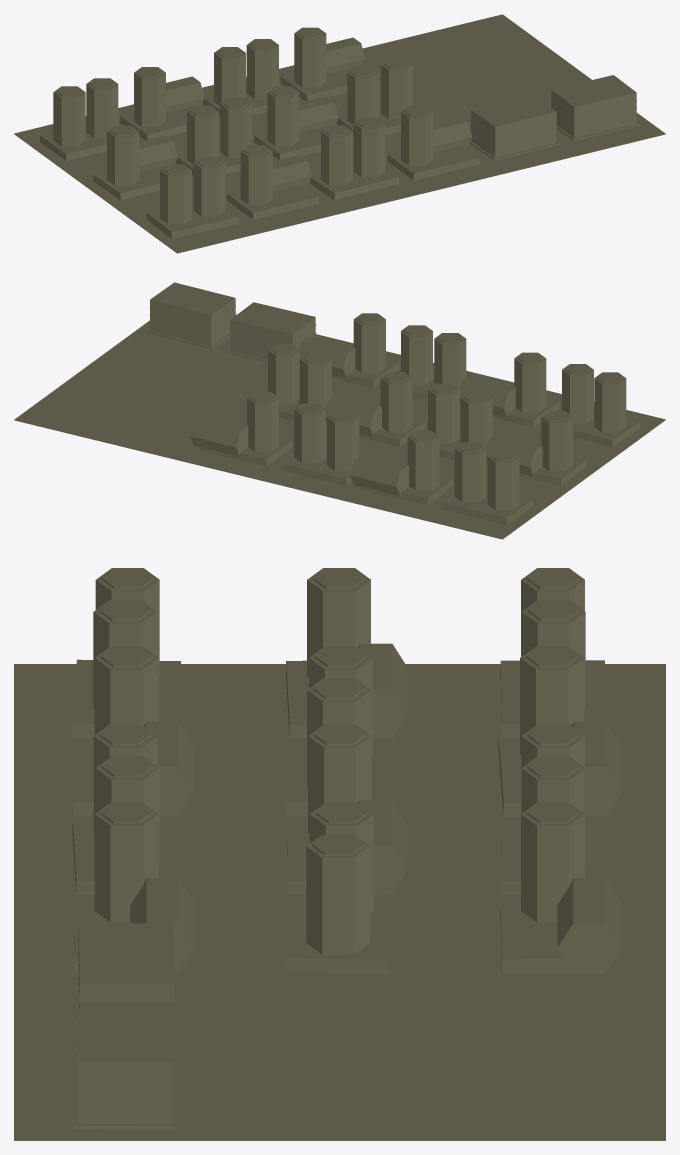
Rendered from SM_AcopioCombustible_v4_Quemado_LOD1.fbx.
3 views of the same model, one above another, from view 1: azimuth 30°, elevation 25°; view 2: azimuth 150°, elevation 25°; view 3: azimuth 270°, elevation 25° (orthographic). The views are drawn at different scales.
Visible parts, largest first — view 1: SM_acopio_carga_v9_LOD1; view 2: SM_acopio_carga_v9_LOD1; view 3: SM_acopio_carga_v9_LOD1.
Part boxes in pixels (<box>): SM_acopio_carga_v9_LOD1: <box>14,14,665,253</box>; SM_acopio_carga_v9_LOD1: <box>14,282,665,539</box>; SM_acopio_carga_v9_LOD1: <box>14,568,665,1140</box>.
Size of the model in its own units: 9.5 by 1.06 by 5.5.
